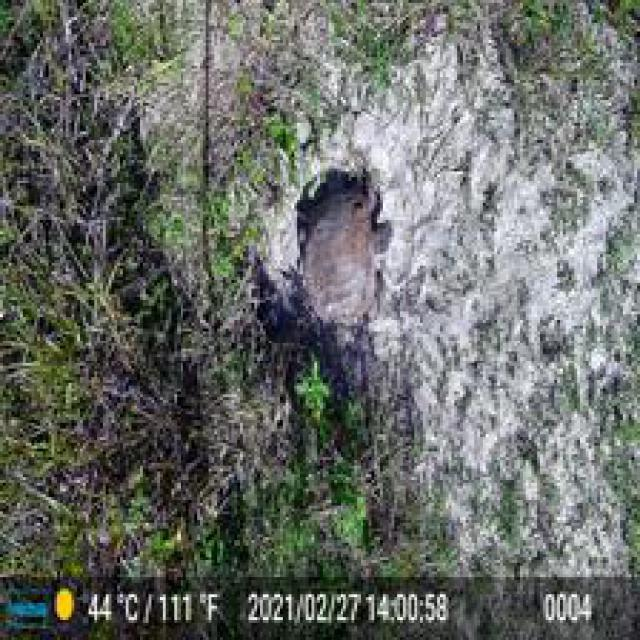tortoise: (286, 174, 398, 322)
